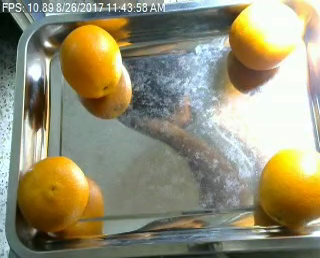Orange: (17, 155, 89, 232), (229, 1, 305, 71), (258, 147, 320, 227), (59, 23, 122, 100)
